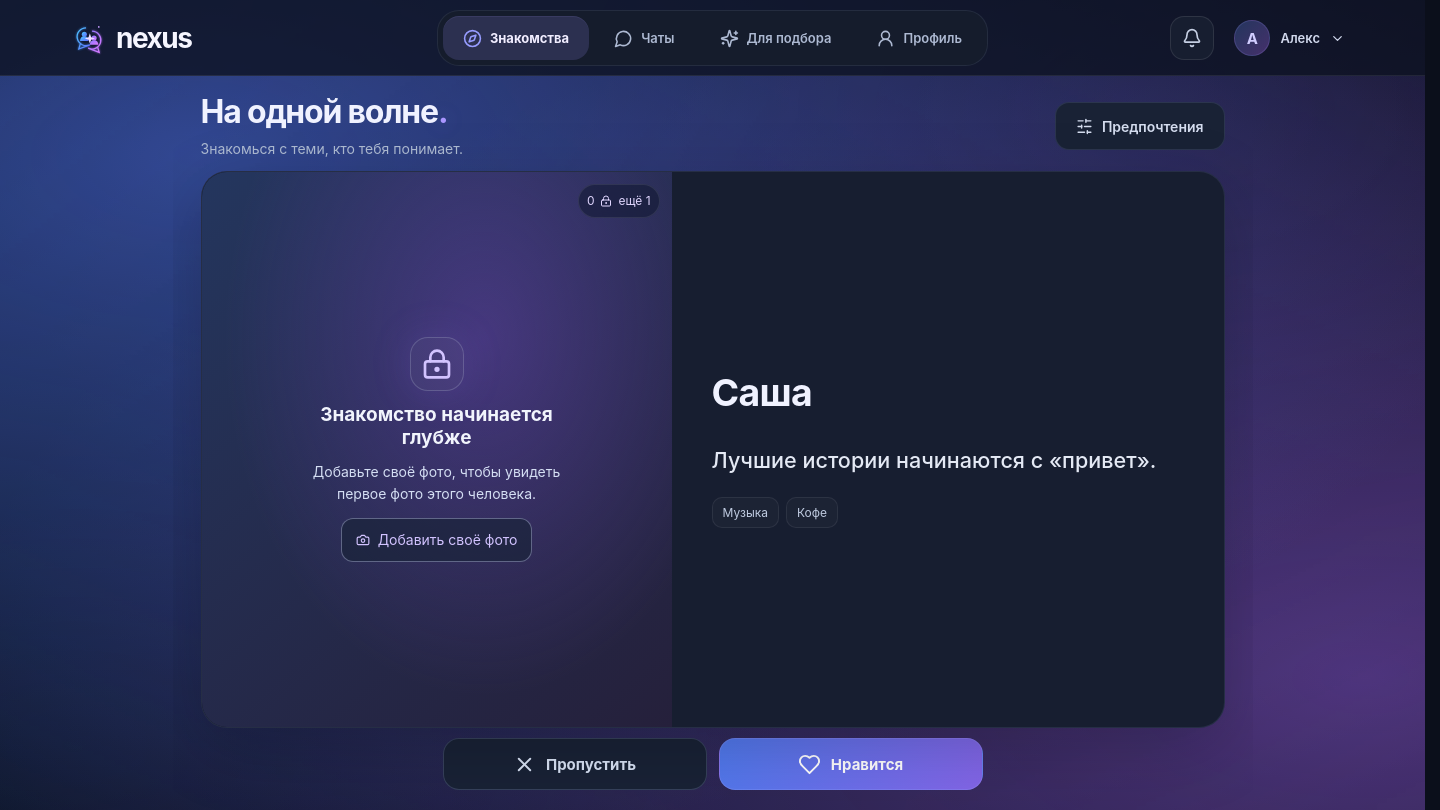
it: Nexus user flows › opens own profile preview from the avatar without exposing private fields
The image size is (1440, 810).
Click the button with aria-label "Профиль и настройки: Алекс". click: coordinates (1291, 38)
box: [1229, 15, 1353, 61]
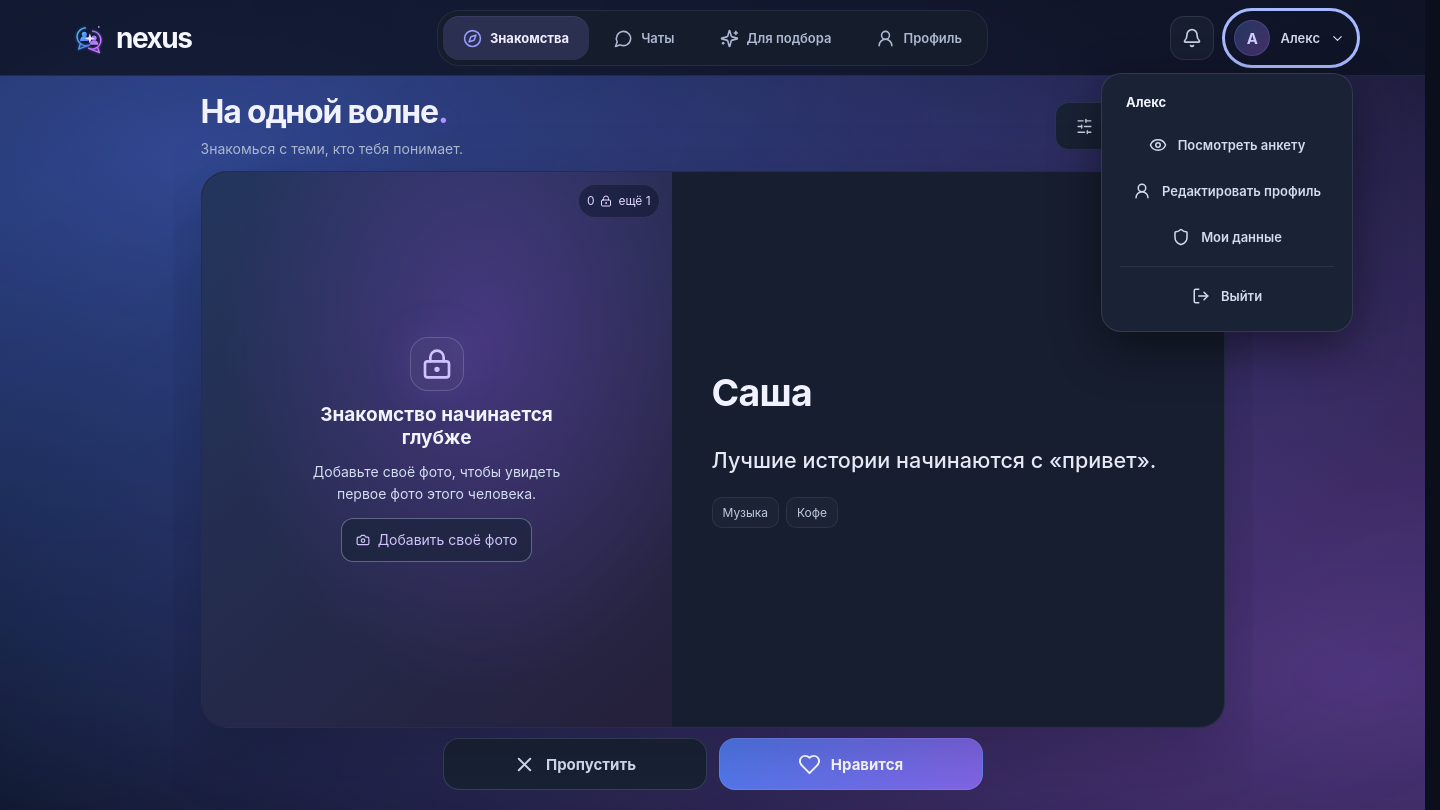
Click the button "Посмотреть анкету". click: coordinates (1227, 145)
box: [1114, 122, 1340, 168]
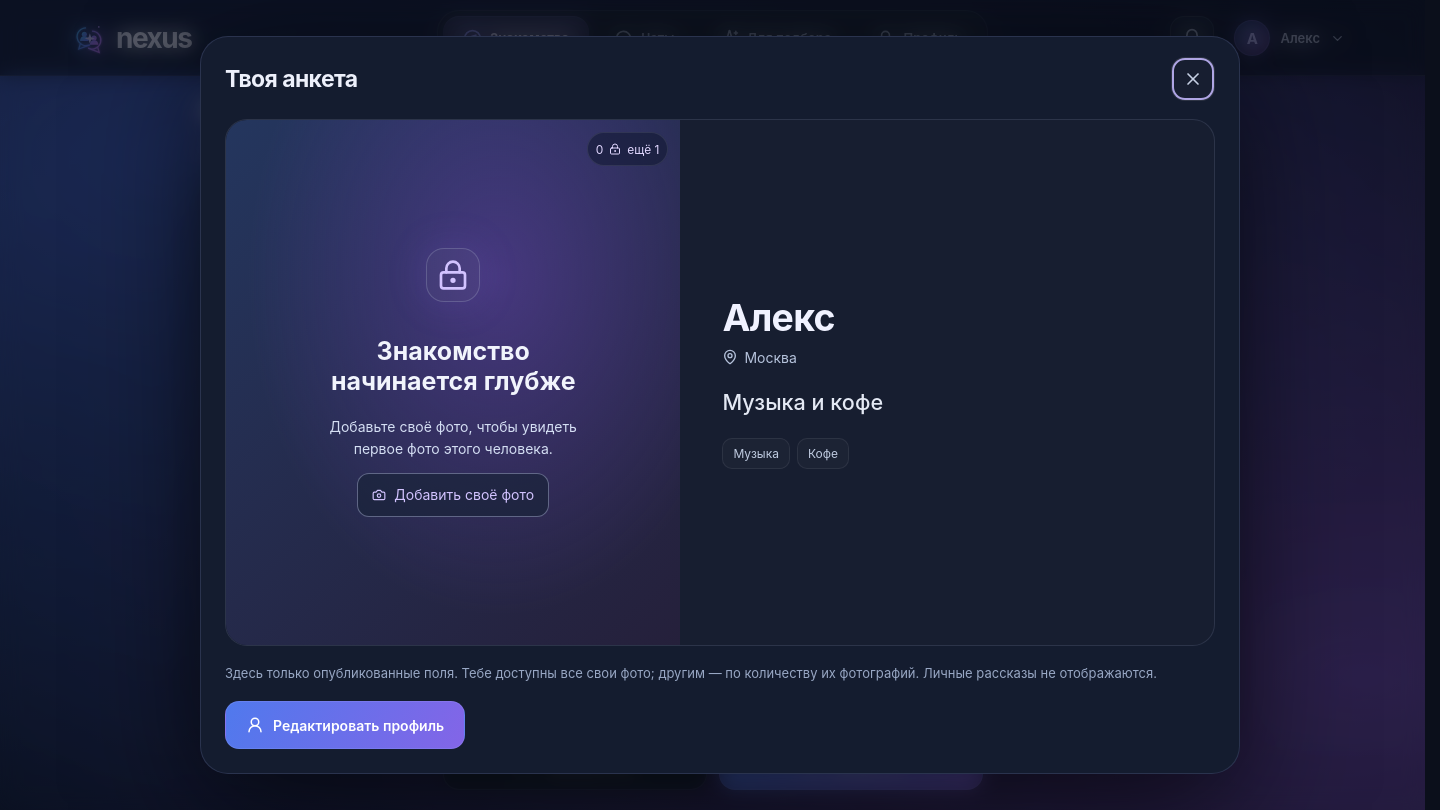
Check: the dialog "Твоя анкета" does not show "2001-04-12"
Check: the dialog "Твоя анкета" shows "Музыка и кофе", box [722, 389, 883, 415]
Click the button "Редактировать профиль". click: coordinates (345, 725)
box: [225, 701, 465, 749]
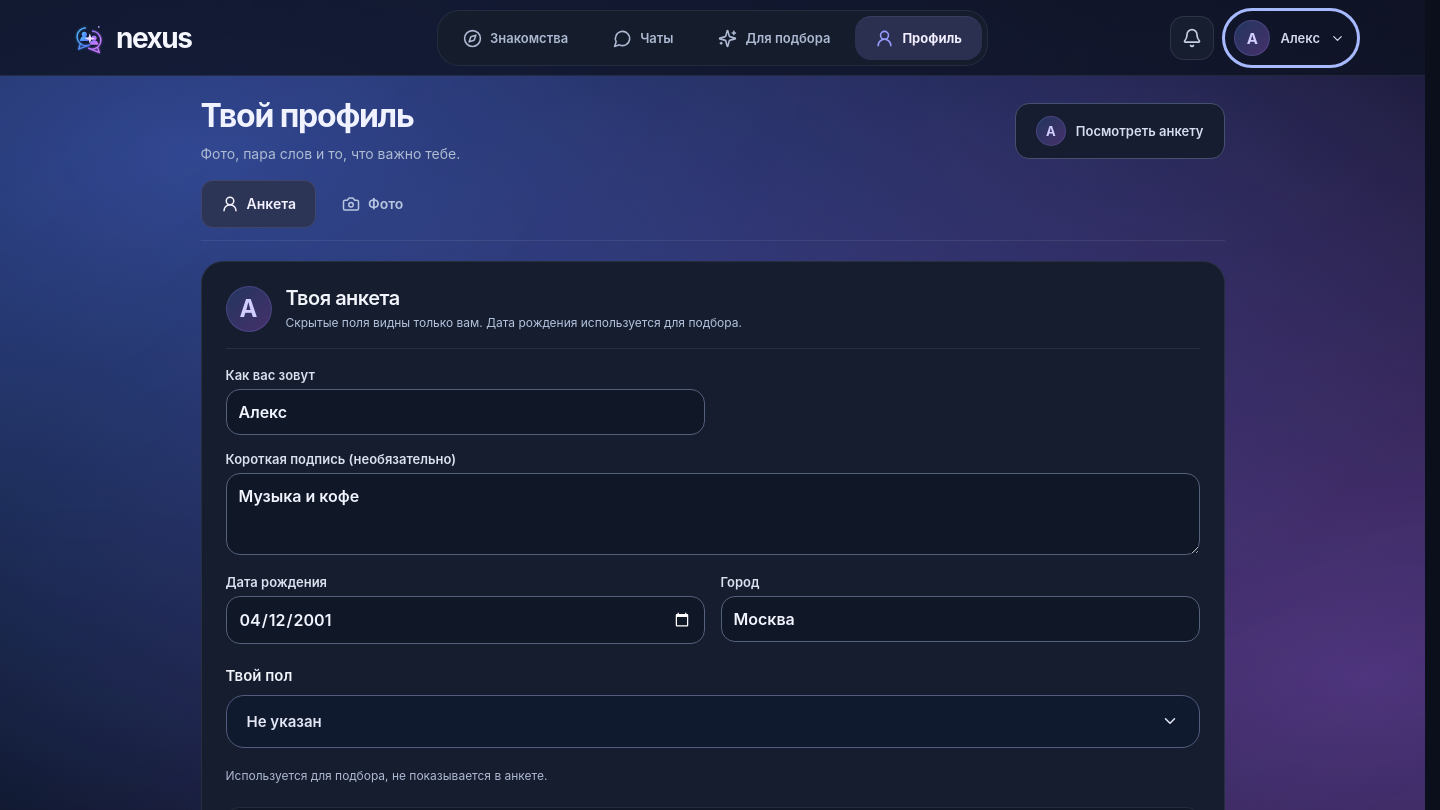
Check: the field labelled "Как вас зовут" is shown, box [226, 389, 704, 435]
